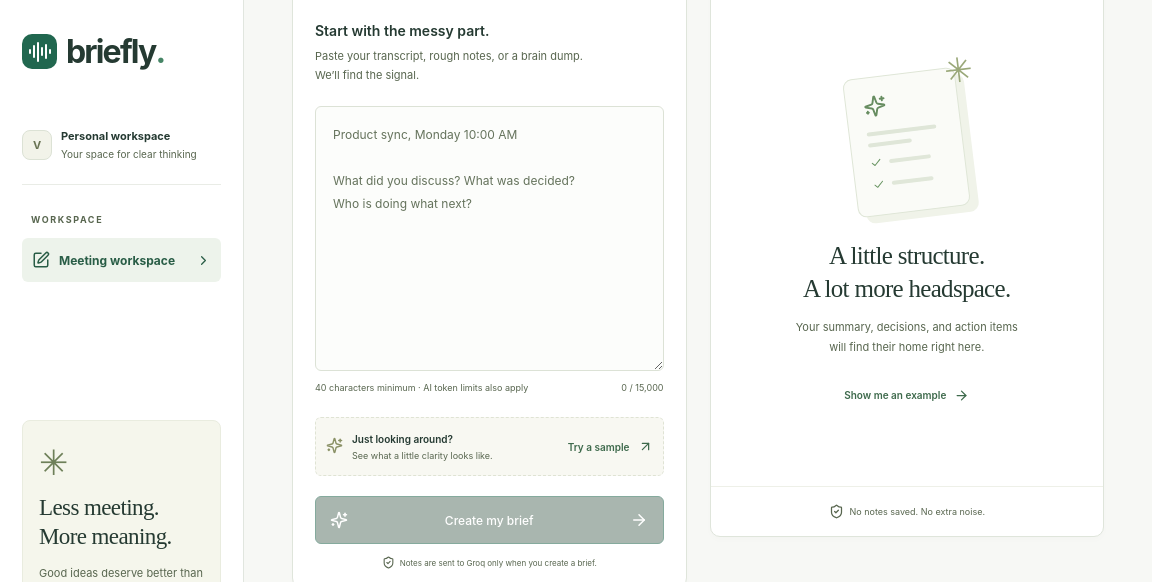
Scenario: workspace flow › rejects malformed live responses
(page scrolled)
Click the button "Try a sample": (610, 447) [568,431,652,462]
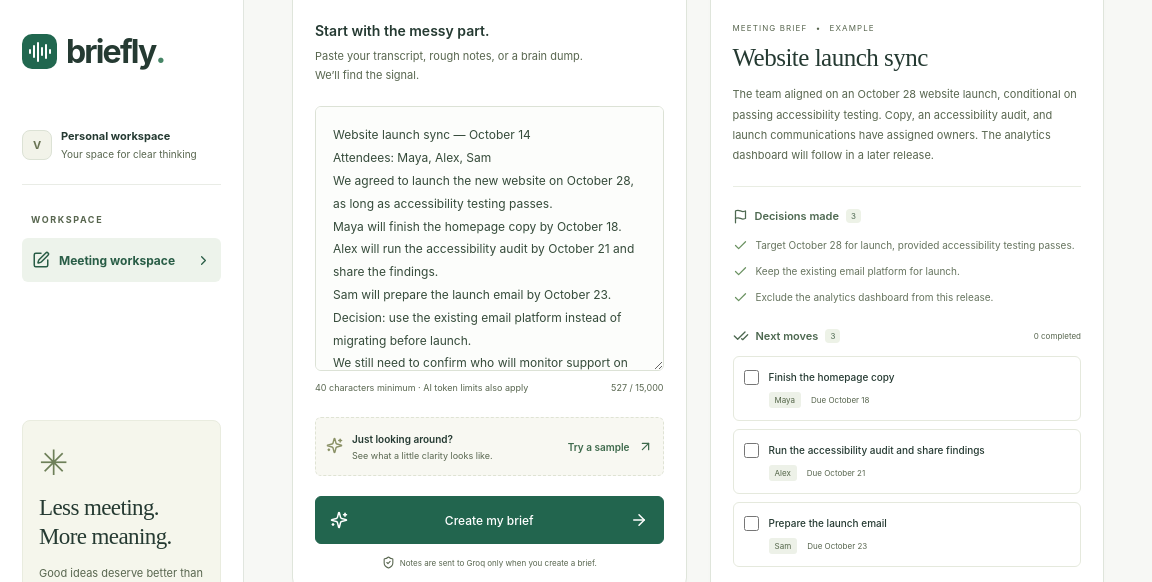
Click the button "Create my brief": (489, 520) [315,496,664,544]
(page scrolled)
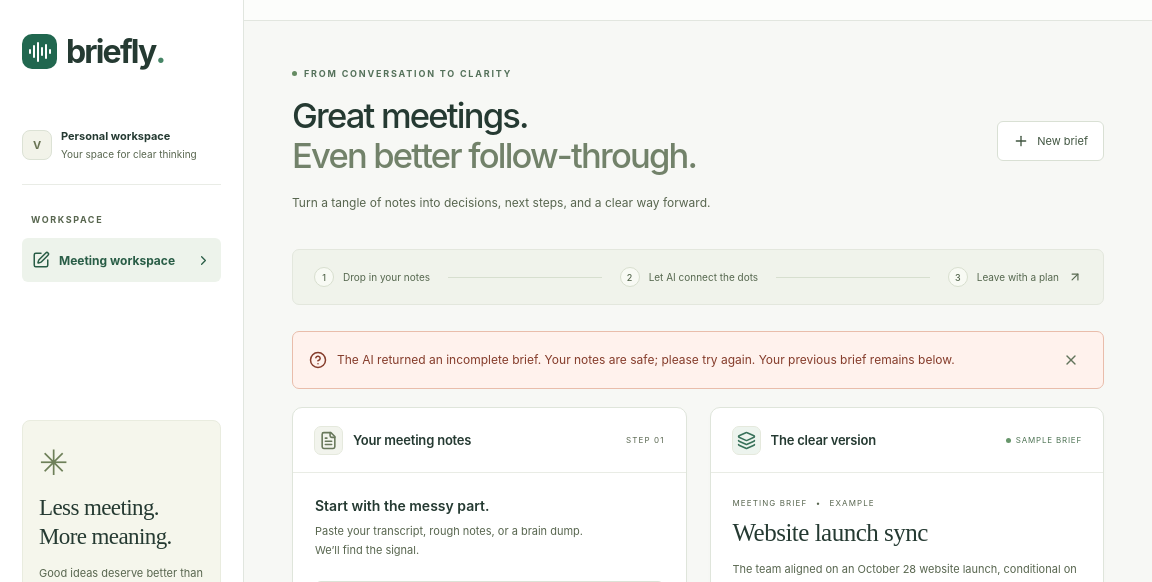
Expected: the message shows "incomplete brief", [337,352,755,368]
